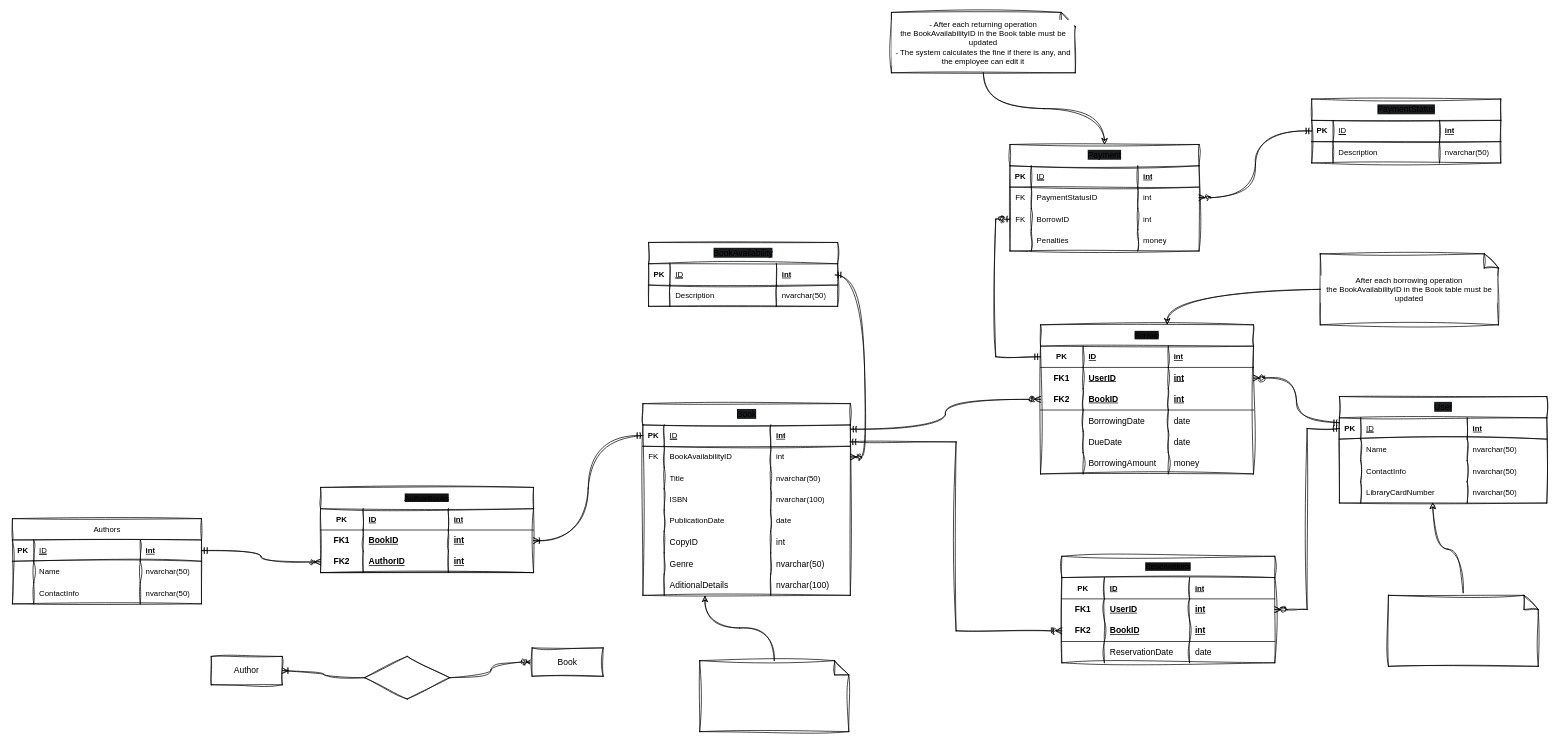
The diagram is 1560 pixels wide and 744 high, and some of its shapes have lost their labels. The centre of each missing label's shape, as x and y in pixels:
"- (CopyID, ISBN) should be UINQUE - The default value of CopyID is 1" belongs at point 774,696.
"LibraryCardNumber should be UNIQUE" belongs at point 1463,630.
"Relationship" belongs at point 407,677.
